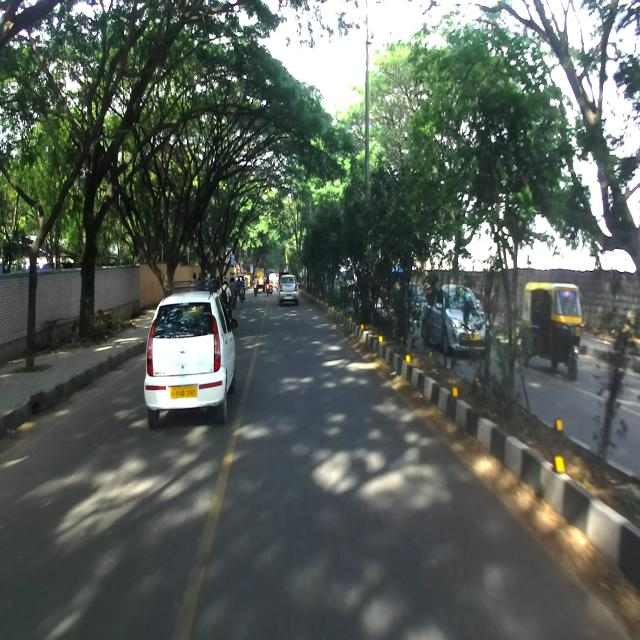car ahead at: (145, 293, 242, 431), (275, 272, 302, 316)
tree ahead at: (70, 91, 124, 331)
